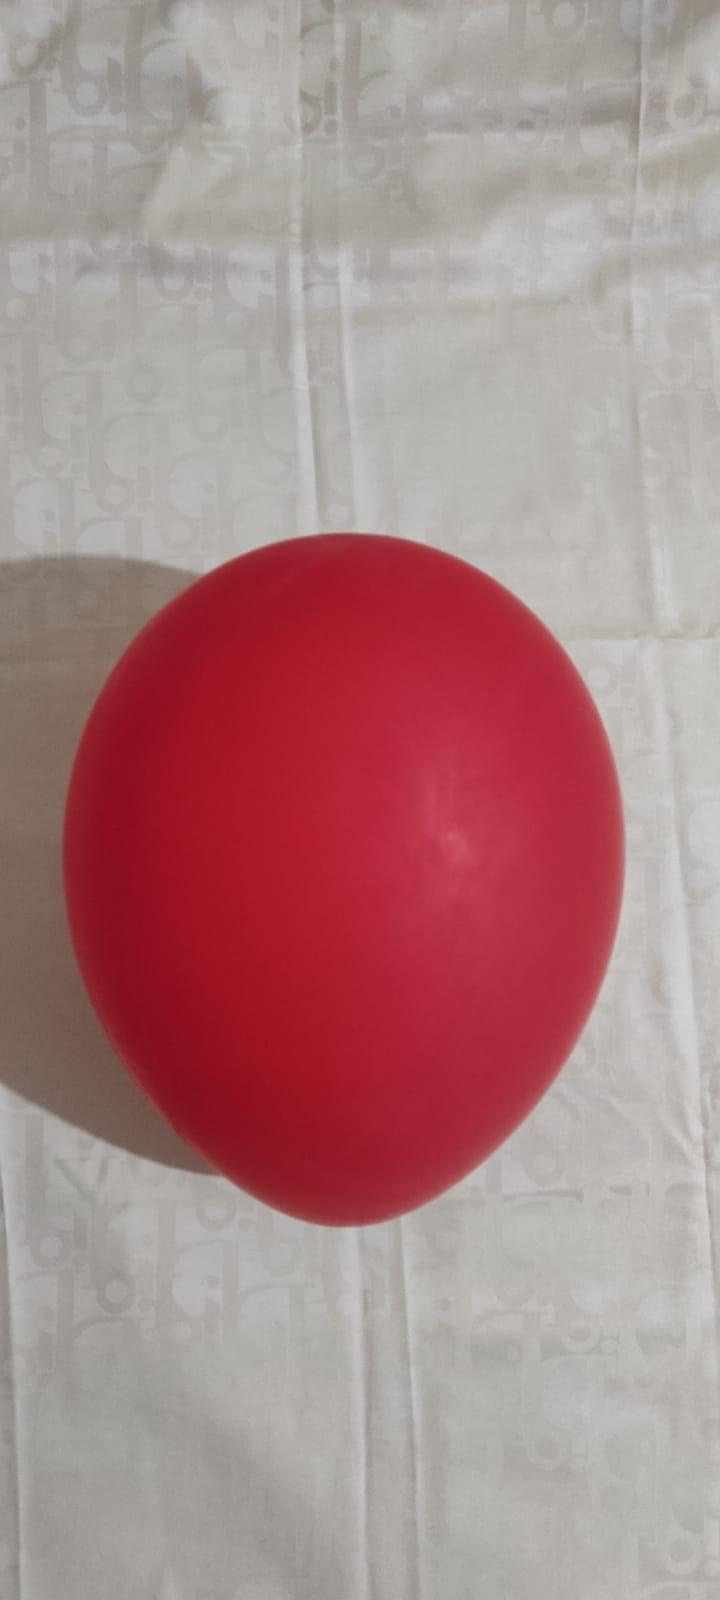red: (60, 520, 637, 1243)
